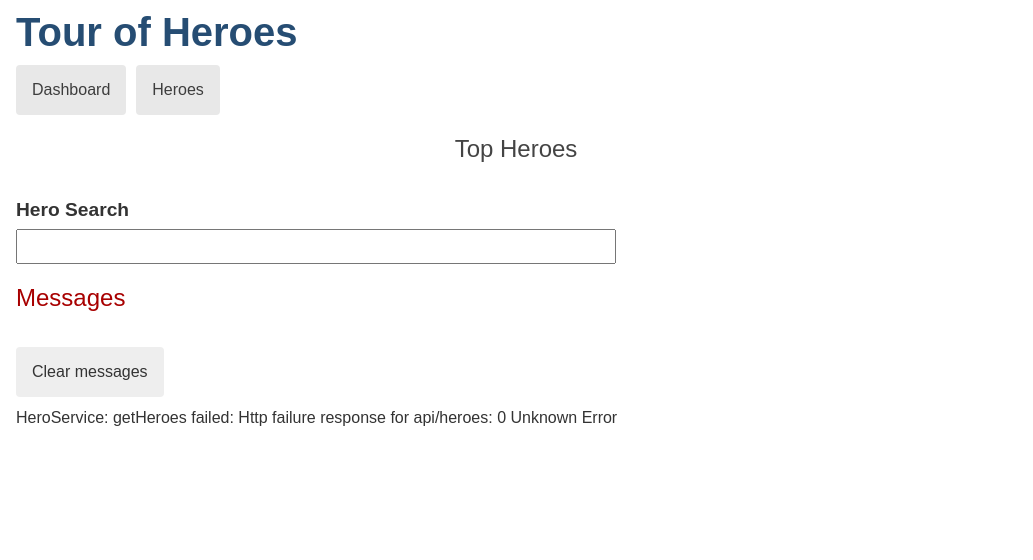
Test: Tour of Heroes test suite › Heroes page has h2 tag
Click the link to "/heroes" at point(178, 90), box [136, 65, 220, 115]
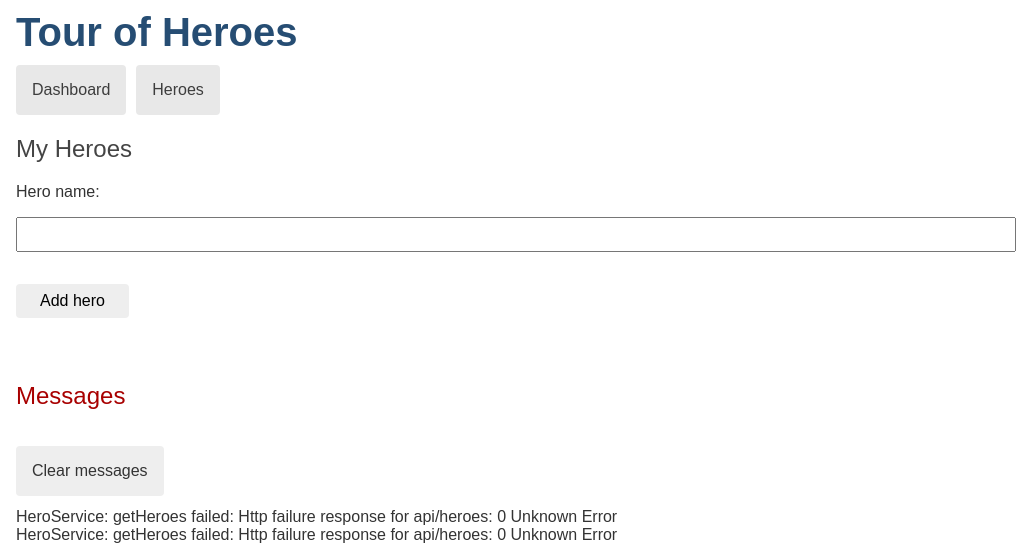
Expected: the heading "My Heroes" is shown, [16, 135, 132, 162]
